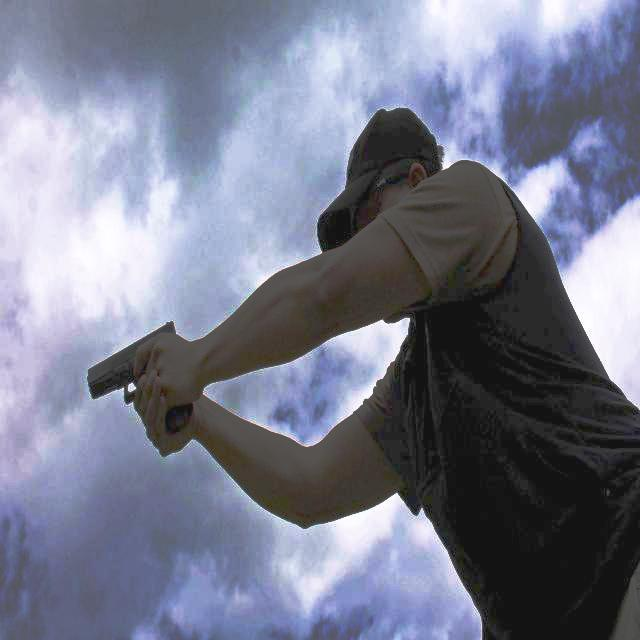Gun: (72, 325, 212, 433)
